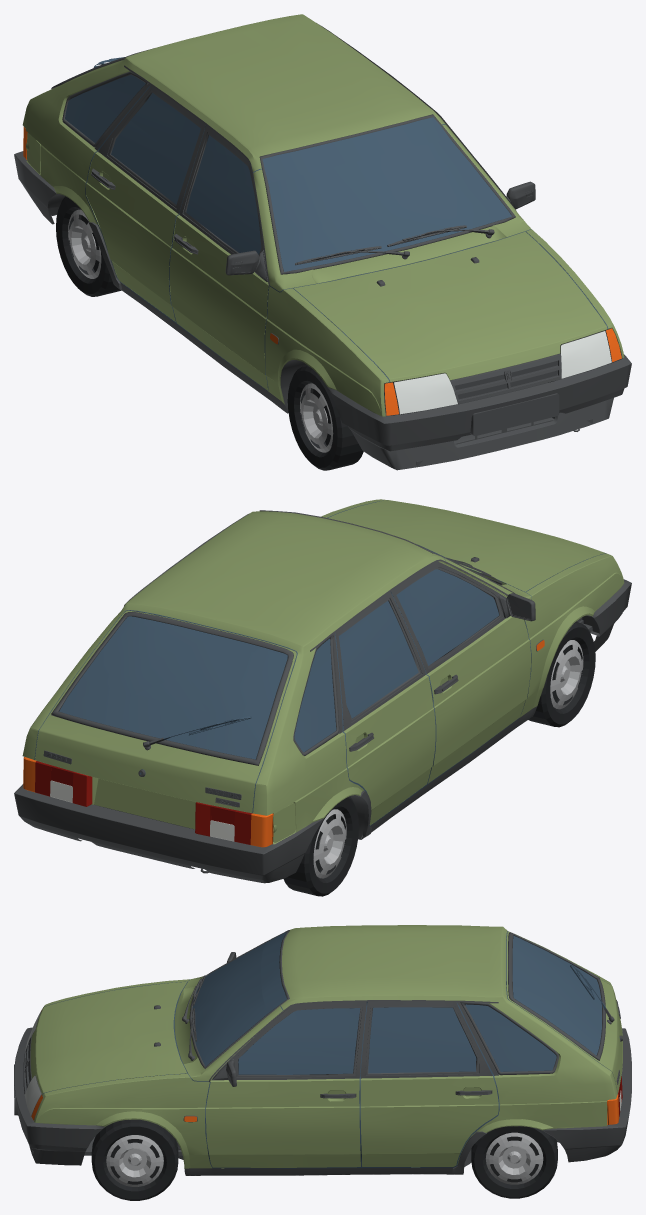
Rendered from vaz2109.glb.
3 renders of one model, top to bottom at view 1: azimuth 30°, elevation 25°; view 2: azimuth 150°, elevation 25°; view 3: azimuth 270°, elevation 25°, orthographic. The views are drawn at different scales.
Visible parts, largest first — view 1: chassis, bonnet_ok, windscreen_ok, dool_rf_ok, door_rr_ok, bump_front_ok, wheel_fr, headlights, wheel_rr, reshotka, dnishe, liniya (+2 smaller); view 2: chassis, boot_ok, dool_rf_ok, door_rr_ok, bump_rear_ok, bonnet_ok, wheel_rr, wheel_fr, bump_front_ok, brake_lights, taillights, liniya (+4 smaller); view 3: chassis, dool_lf_ok, dool_lr_ok, bonnet_ok, boot_ok, windscreen_ok, wheel_fl, wheel_rl, bump_front_ok, bump_rear_ok, liniya, headlights (+2 smaller).
Part boxes in pixels (x1,y1,x2,y2): chassis: [22, 14, 624, 416]; bonnet_ok: [294, 231, 607, 382]; windscreen_ok: [262, 117, 511, 271]; dool_rf_ok: [169, 125, 268, 390]; door_rr_ok: [86, 85, 205, 321]; bump_front_ok: [327, 354, 631, 470]; wheel_fr: [287, 365, 363, 470]; headlights: [394, 331, 611, 414]; wheel_rr: [56, 196, 121, 296]; reshotka: [450, 353, 561, 404]; dnishe: [36, 171, 622, 444]; liniya: [85, 85, 608, 390]; chassis: [22, 499, 624, 844]; boot_ok: [35, 610, 296, 813]; dool_rf_ok: [391, 561, 535, 783]; door_rr_ok: [335, 591, 435, 825]; bump_rear_ok: [14, 784, 323, 883]; bonnet_ok: [328, 500, 605, 591]; wheel_rr: [283, 796, 358, 896]; wheel_fr: [528, 622, 595, 727]; bump_front_ok: [582, 579, 631, 651]; brake_lights: [72, 772, 210, 836]; taillights: [35, 761, 252, 844]; liniya: [327, 500, 606, 826]; chassis: [34, 925, 617, 1175]; dool_lf_ok: [206, 1001, 366, 1167]; dool_lr_ok: [360, 1001, 498, 1166]; bonnet_ok: [30, 981, 186, 1094]; boot_ok: [506, 931, 622, 1092]; windscreen_ok: [191, 932, 286, 1066]; wheel_fl: [91, 1119, 178, 1200]; wheel_rl: [471, 1126, 557, 1198]; bump_front_ok: [14, 1027, 105, 1165]; bump_rear_ok: [542, 1028, 631, 1162]; liniya: [42, 979, 499, 1168]; headlights: [24, 1012, 40, 1115].
Bounding box in the file's own units: 2.02 × 1.51 × 4.32.
